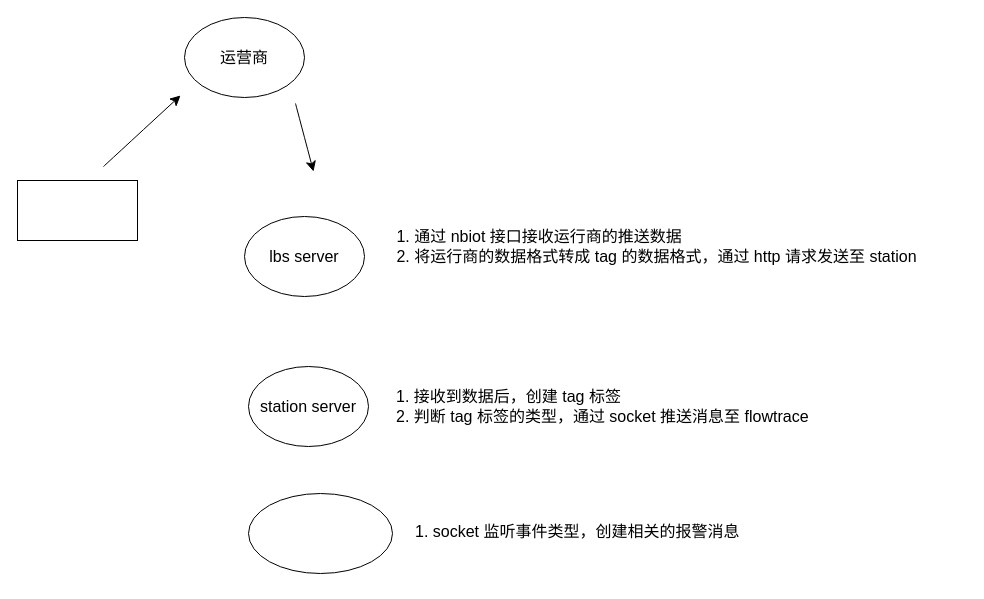
The diagram is 984 pixels wide and 599 high, and some of its shapes have lost their labels. The shapes that lost their labels are listed below. From the top down, each one's box as (x1, y1, x2, y2) in pixels, then its label:
(16, 180, 138, 240): SOS报警按钮
(248, 492, 392, 574): flowtrace server
